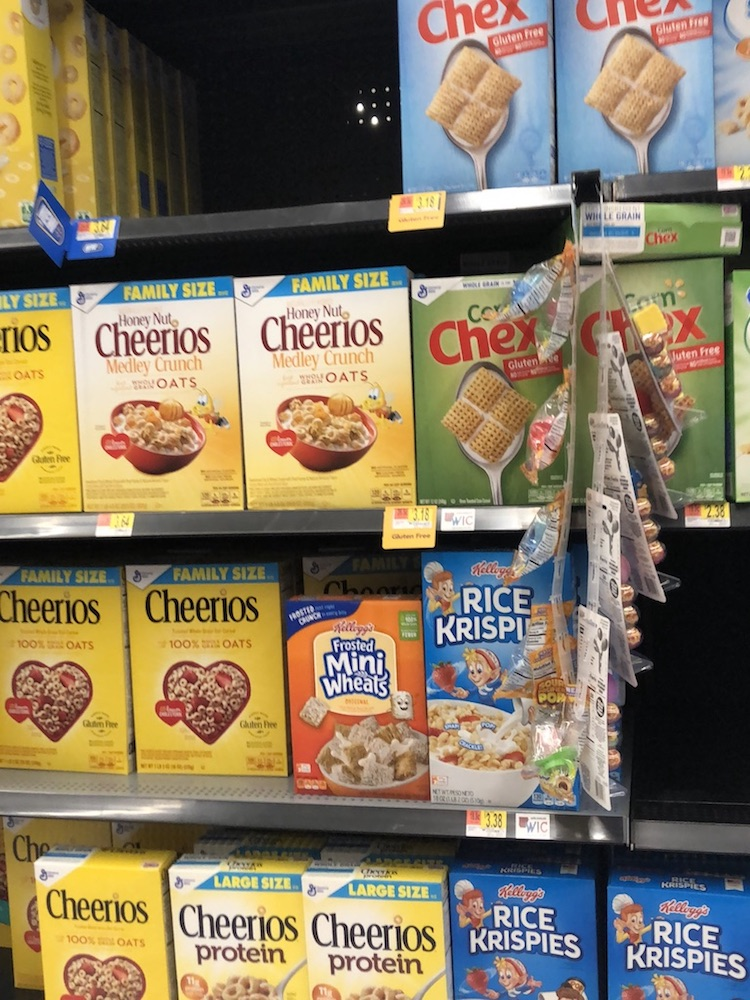Frosted Mini Original -9295869: (287, 597, 429, 800)
